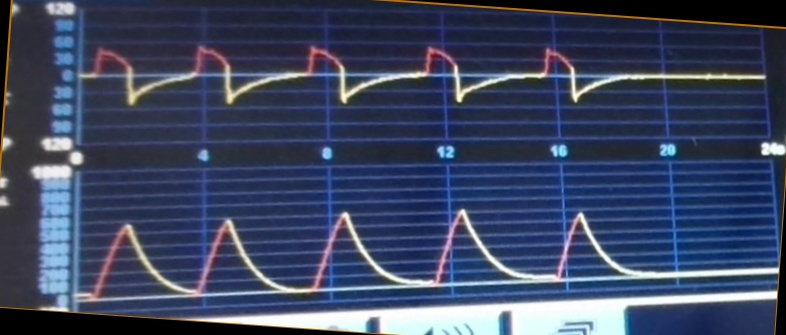Normal Flow: (83, 37, 762, 128)
Normal Volume: (79, 204, 683, 295)
